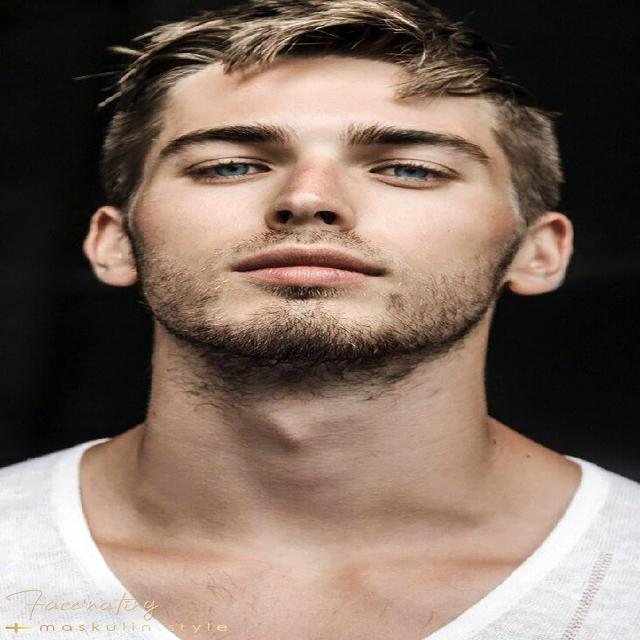front: (153, 98, 502, 326)
